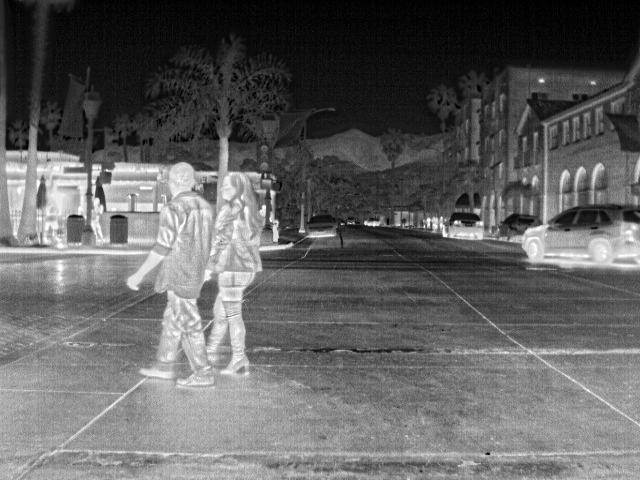car: (521, 201, 639, 267), (499, 213, 543, 242), (447, 212, 485, 240), (303, 213, 341, 239)
person: (126, 159, 219, 391), (202, 170, 268, 376), (92, 195, 108, 242)
